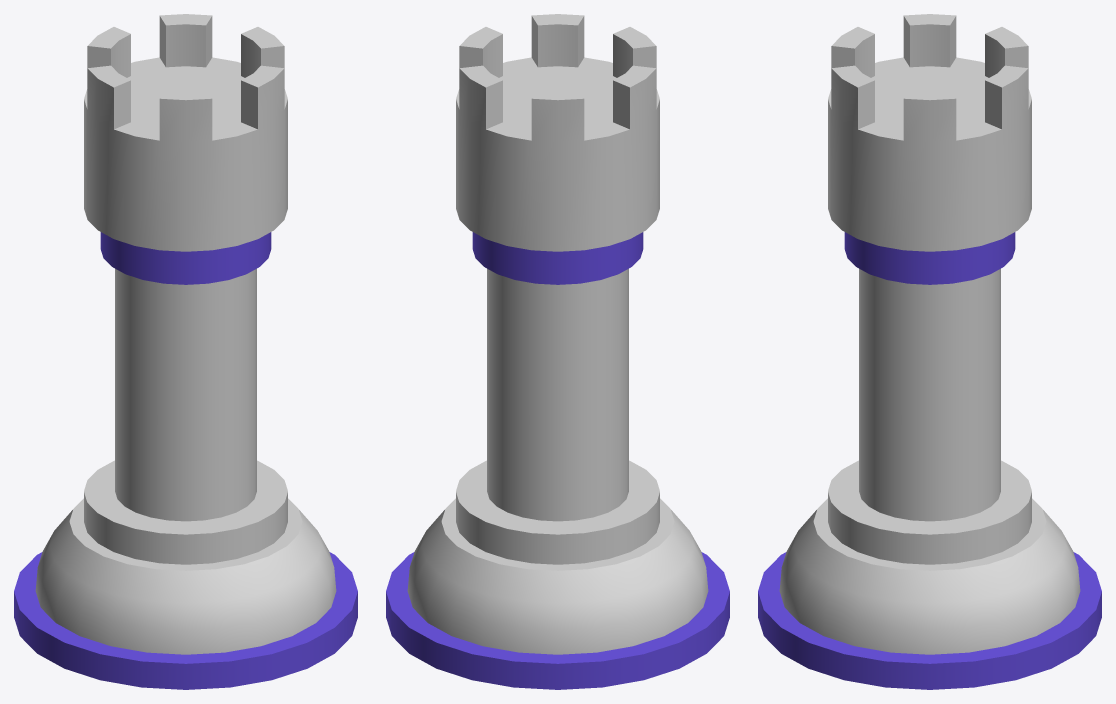
File: castle.fbx
3 views of the same model, side by side, from view 1: azimuth 30°, elevation 25°; view 2: azimuth 150°, elevation 25°; view 3: azimuth 270°, elevation 25° (orthographic).
Parts seen in each view (by area): view 1: castle; view 2: castle; view 3: castle.
Boxes of the visible parts, box(x1,y1,x2,y2) form: castle: box(14, 14, 357, 689); castle: box(386, 14, 729, 689); castle: box(758, 14, 1101, 689).
Bounding box in the file's own units: 182 × 326 × 182.
